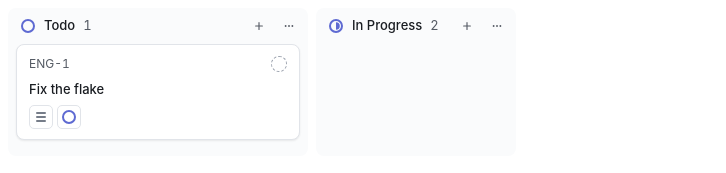
Test: a folded column › offers to bring the column back
Click the button named "Options for In Progress".
click(497, 26)  # box [486,15,508,37]
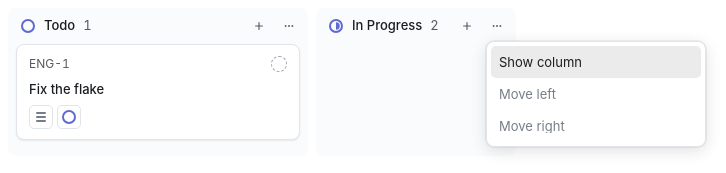
Result: the menu item "Show column" is shown at [491,46,701,78]
